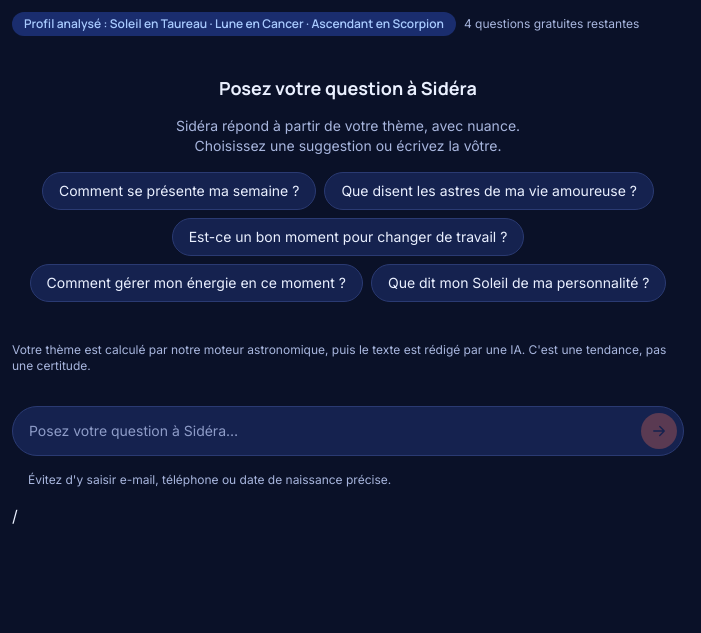
Test: ChatScreen › restaure la saisie et affiche l'erreur quand le quota est dépassé
This screenshot has width=701, height=633.
In the field labelled "votre question": (331,431) [29, 421, 633, 441], type "Bonjour"
Then press Enter
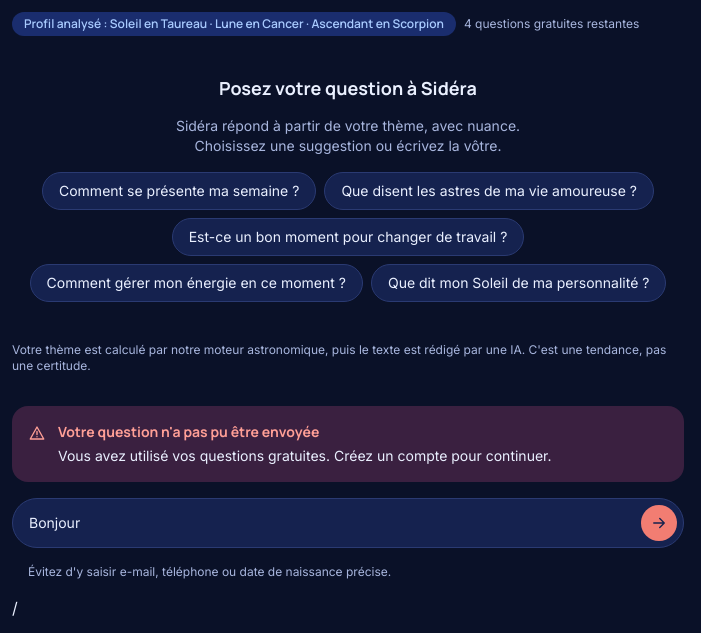
Expected: the message shows "Vous avez utilisé vos questions gratuites", [58, 447, 552, 464]
